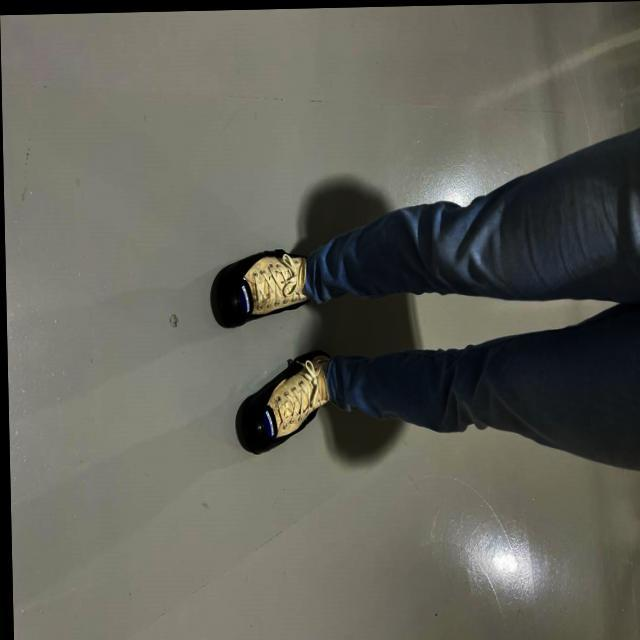shoes: (222, 361, 336, 454), (207, 249, 331, 327)
